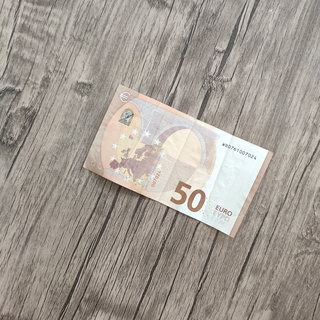50EUROBack: (81, 82, 274, 239)
